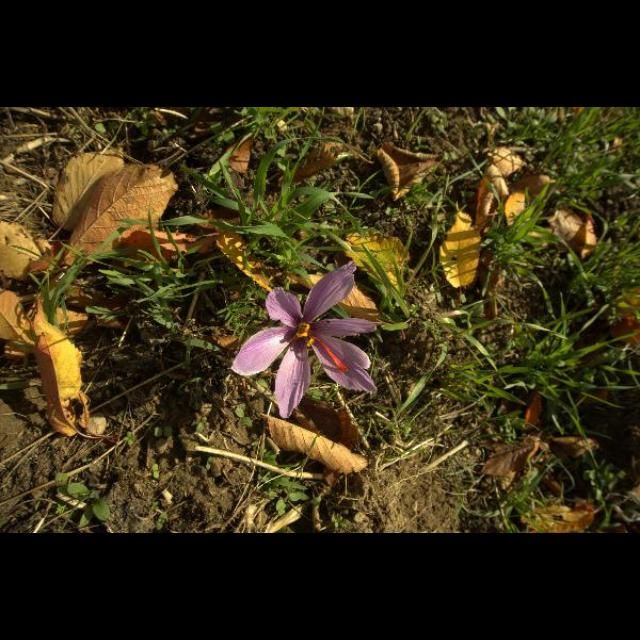flower: (230, 262, 378, 420)
